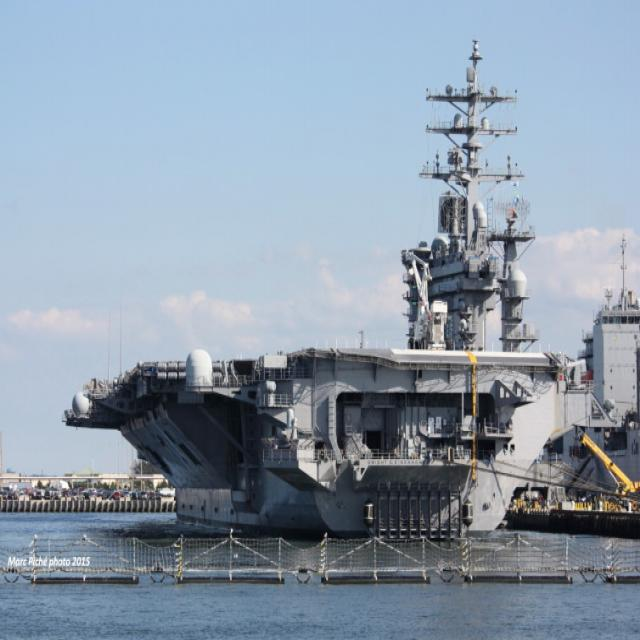Portanaves: (58, 33, 622, 543)
